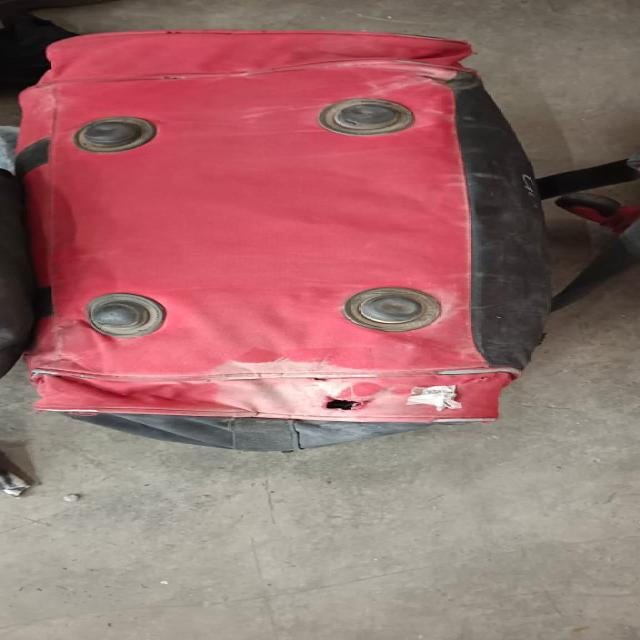Damage-bag: (208, 348, 519, 422)
